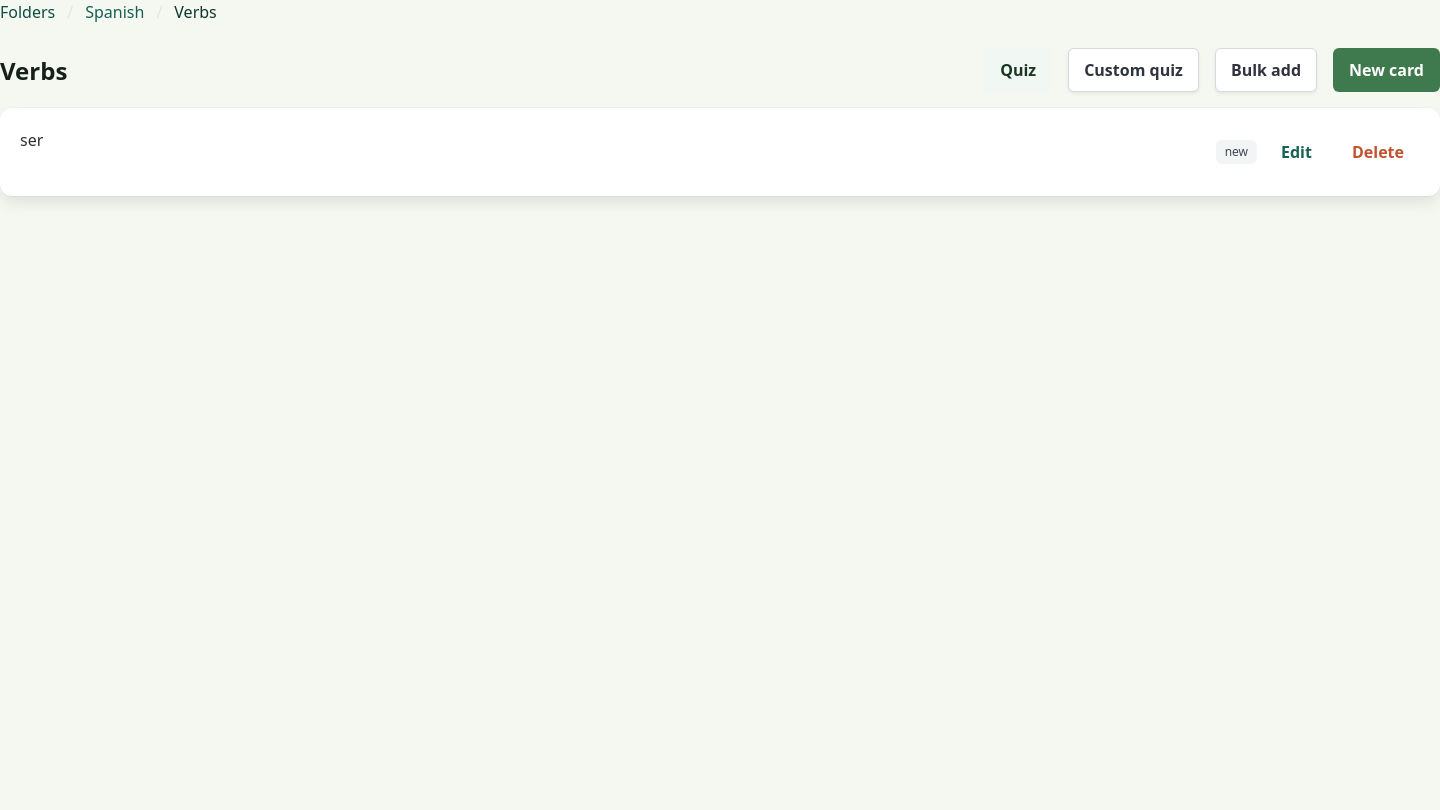
Test case: DeckView › confirms before deleting a card, naming what it is about to do
Click the button with test id "card-delete".
click(1378, 152)  # box [1336, 130, 1420, 174]
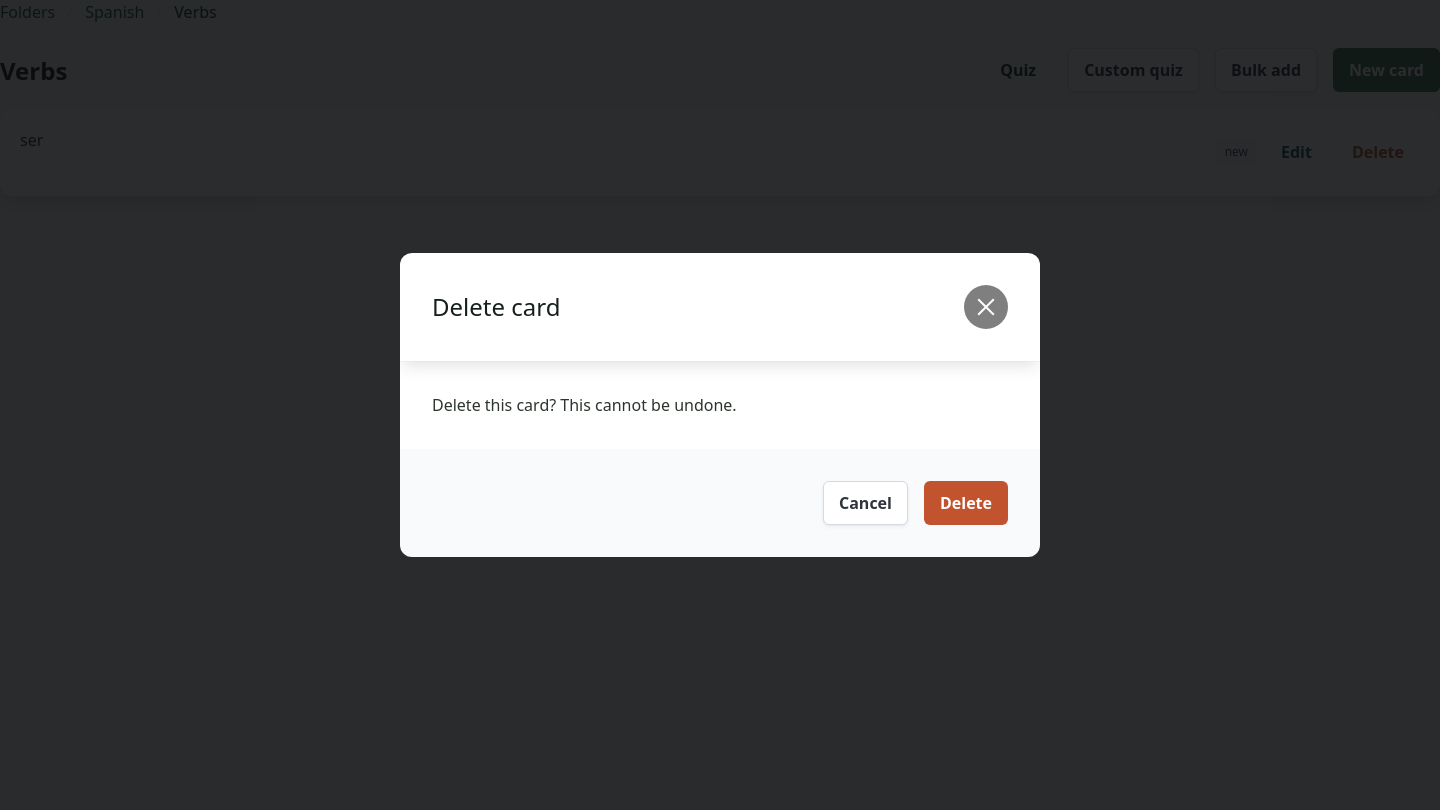
Expected: the text with test id "confirm-message" reads "Delete this card? This cannot be undone.", [432, 394, 737, 416]
